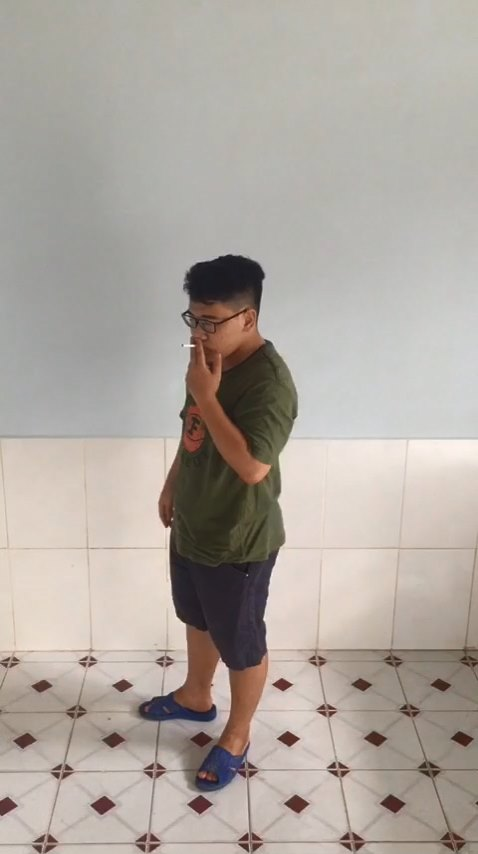cigarette: (176, 340, 204, 351)
person: (122, 245, 313, 804)
